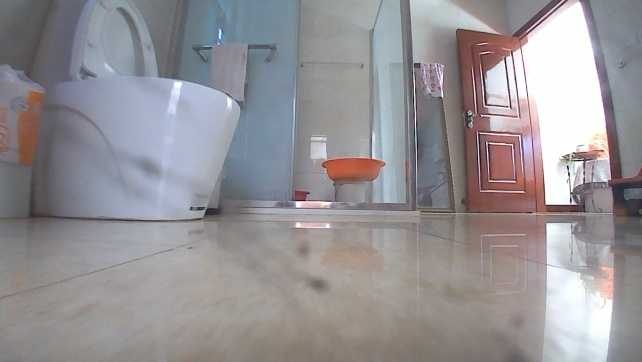door_anno: (453, 25, 552, 213)
toilet: (25, 0, 243, 220)
